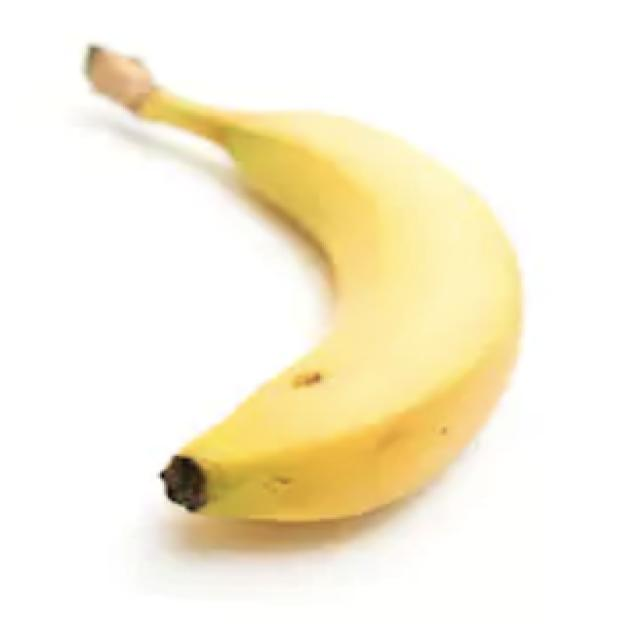fresh-banana: (80, 40, 525, 524)
